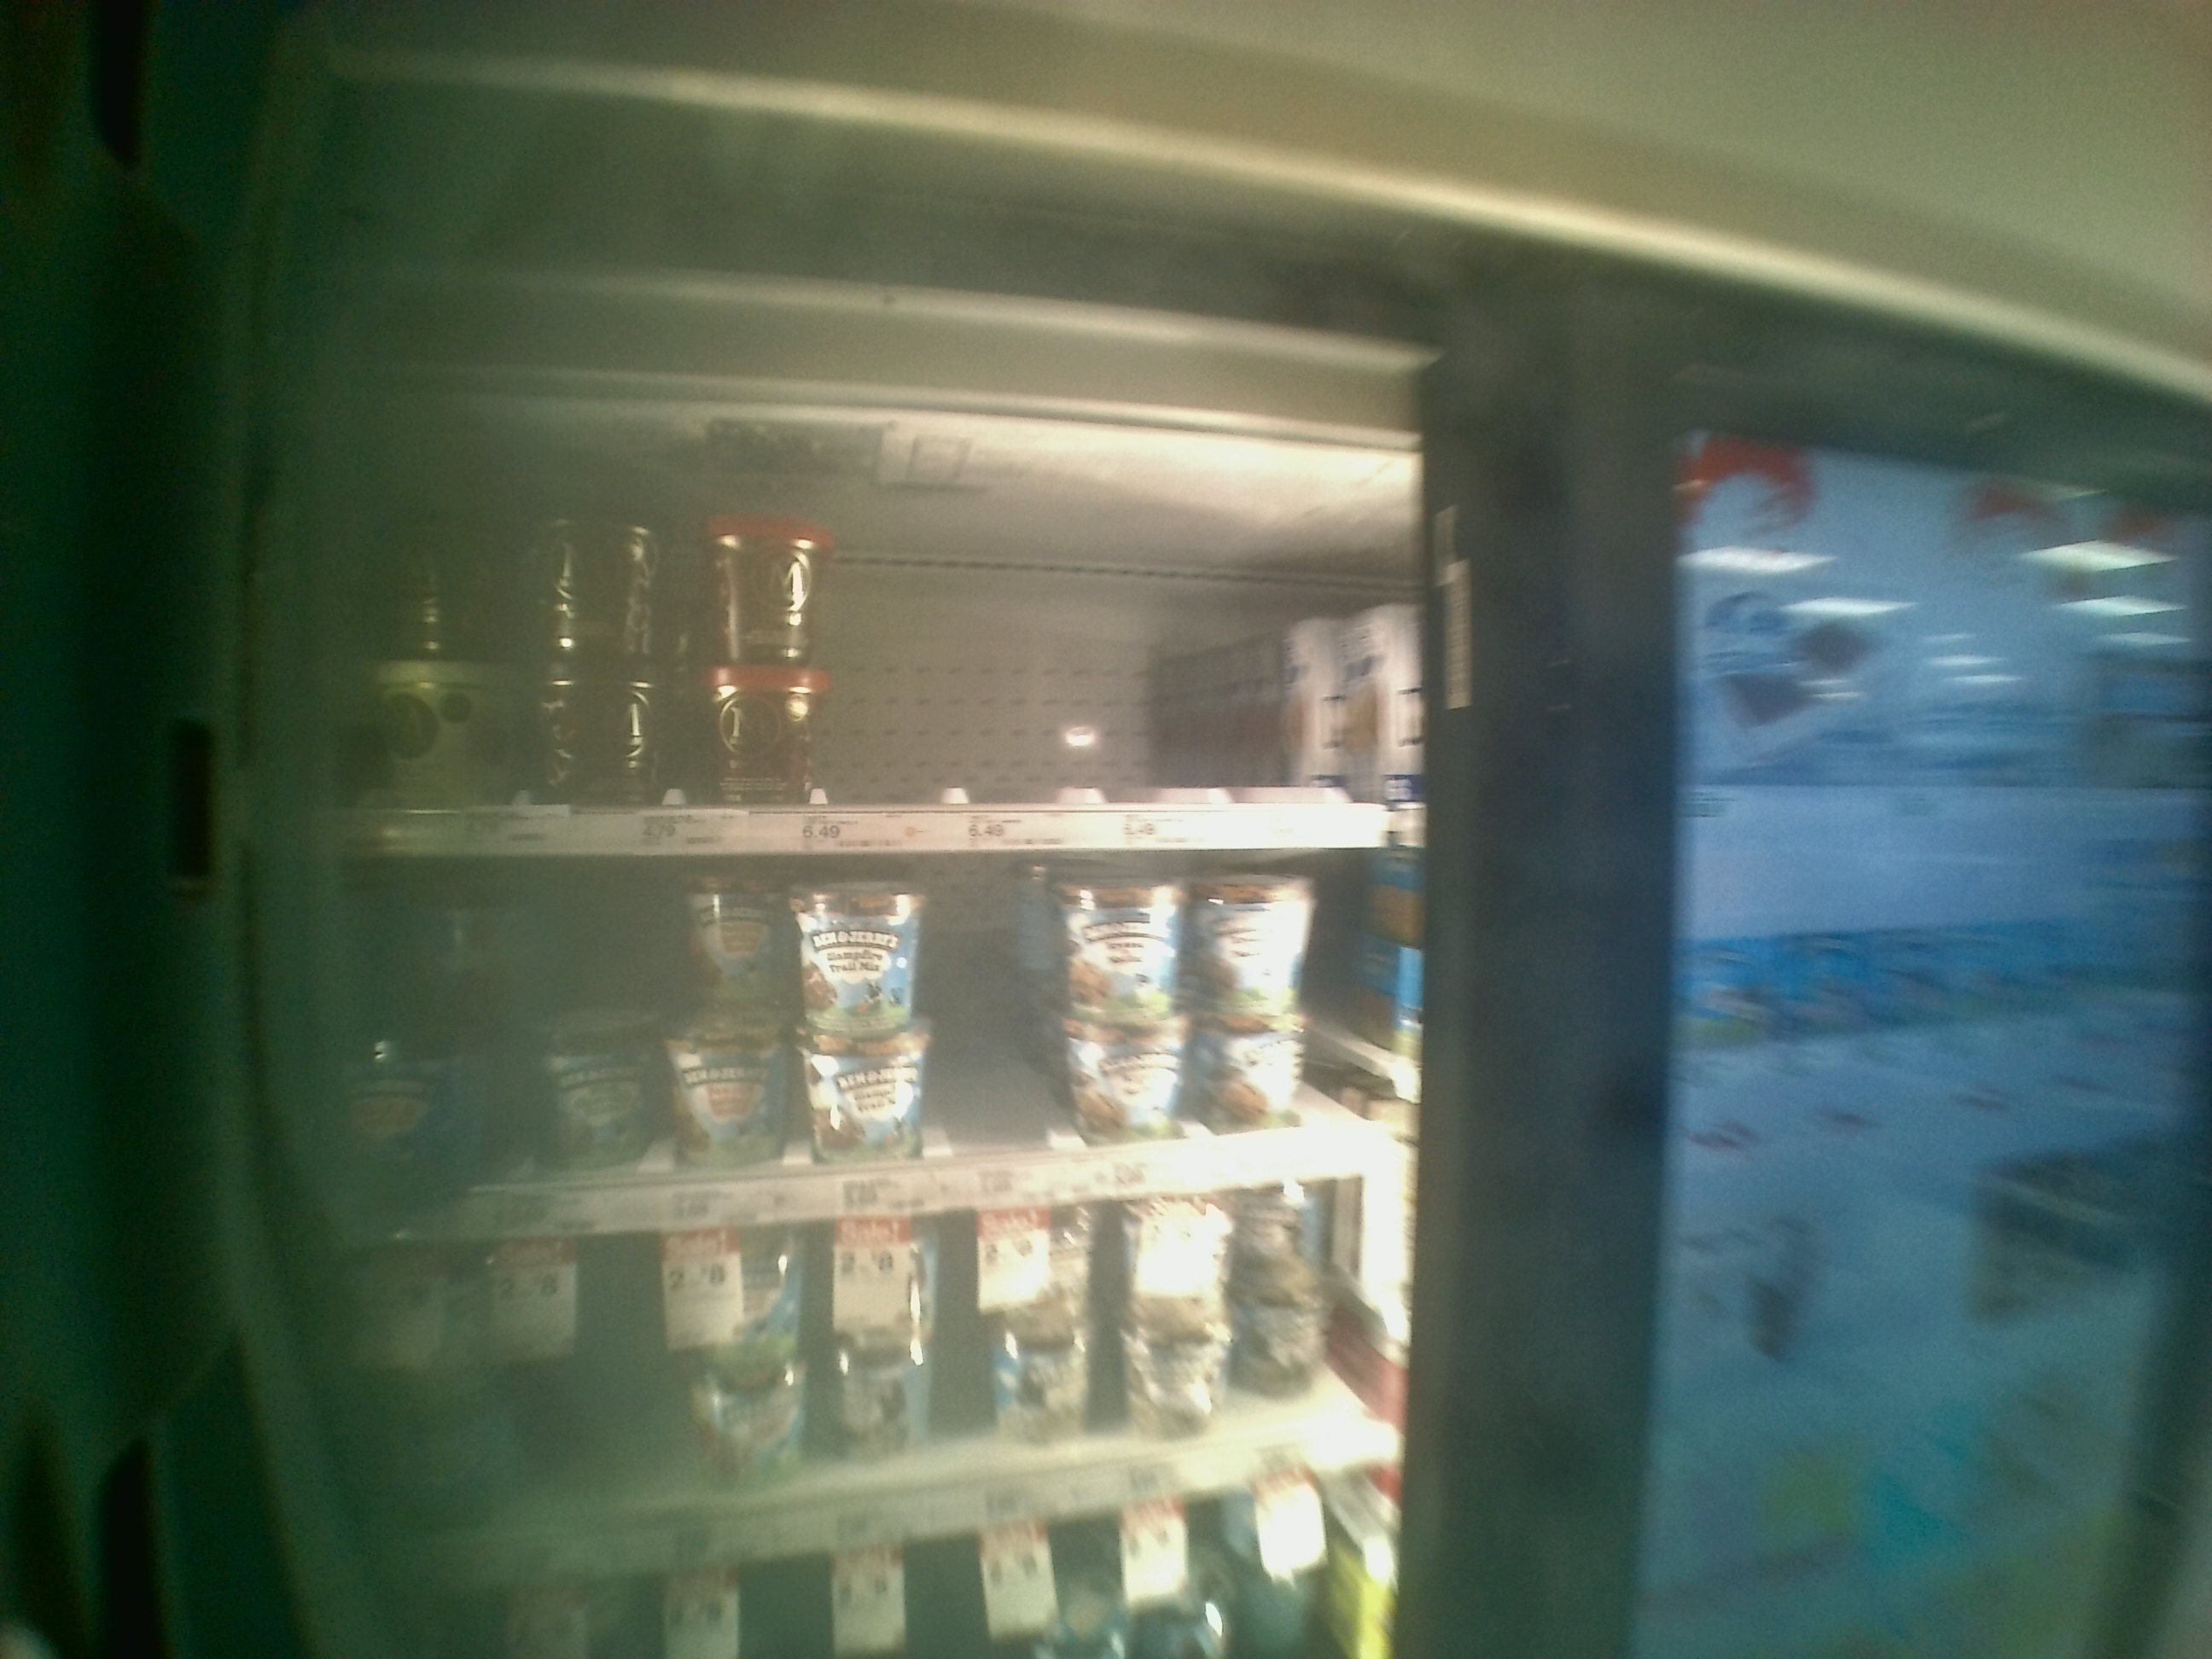shelf: (298, 437, 1407, 859), (289, 878, 1435, 1241)
